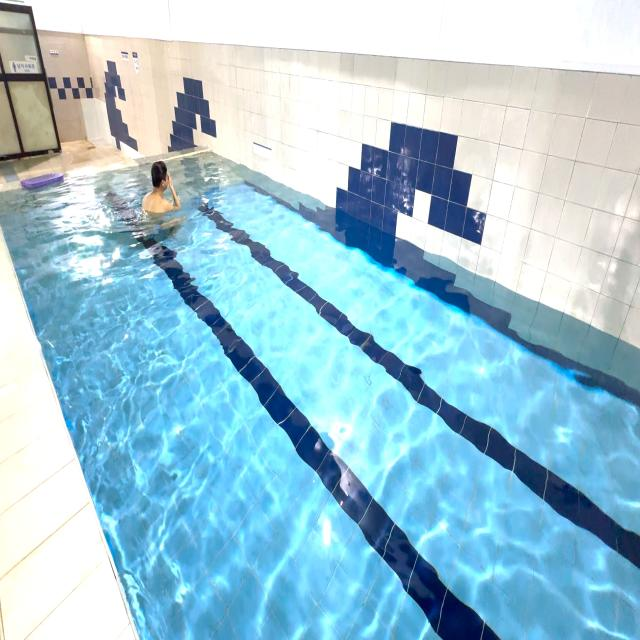Swimming: (130, 151, 189, 246)
